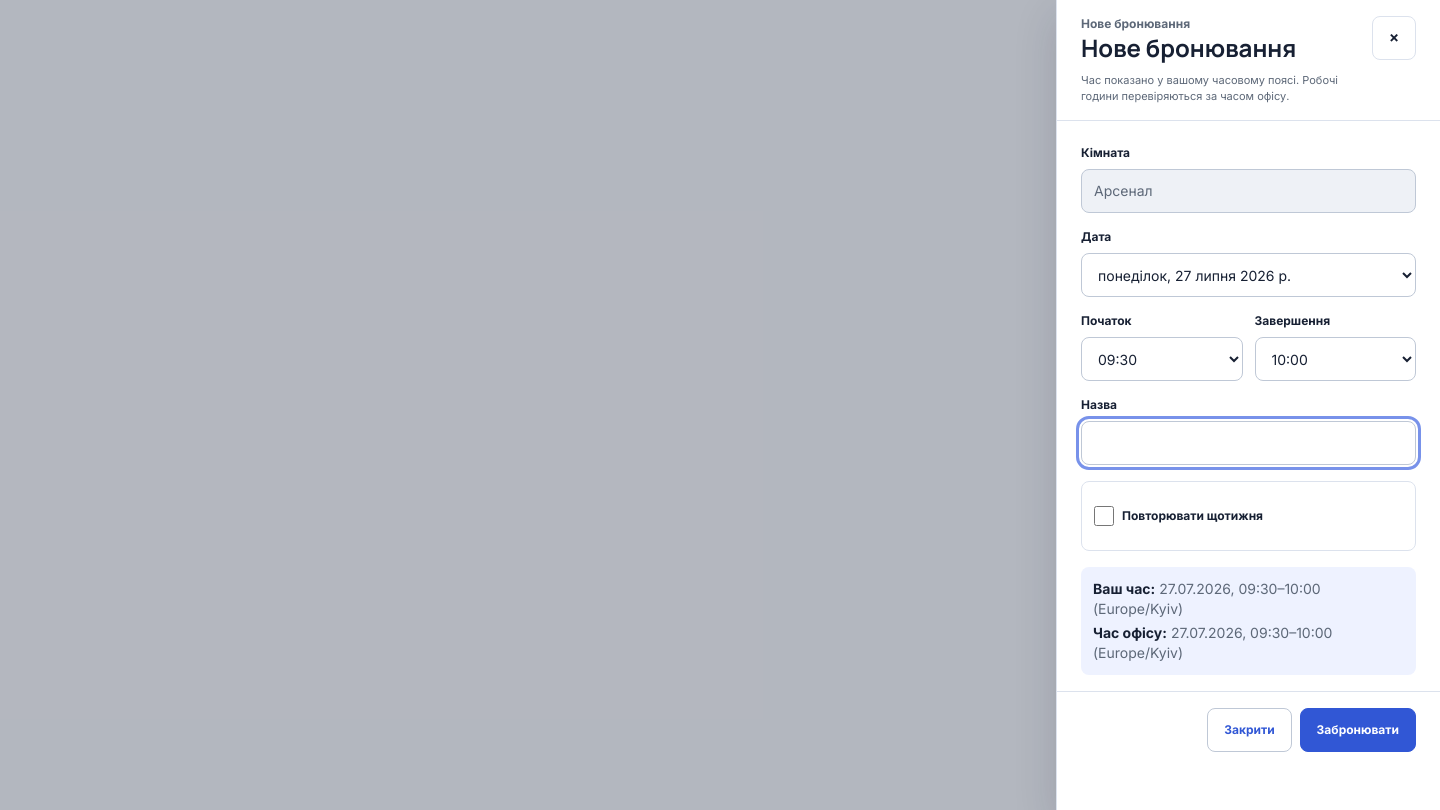
Scenario: BookingSheet › preserves the title, refreshes, and focuses the conflict message
This screenshot has width=1440, height=810.
In the field labelled "Назва": (1248, 443) [1081,421,1416,465], type "Важлива зустріч"
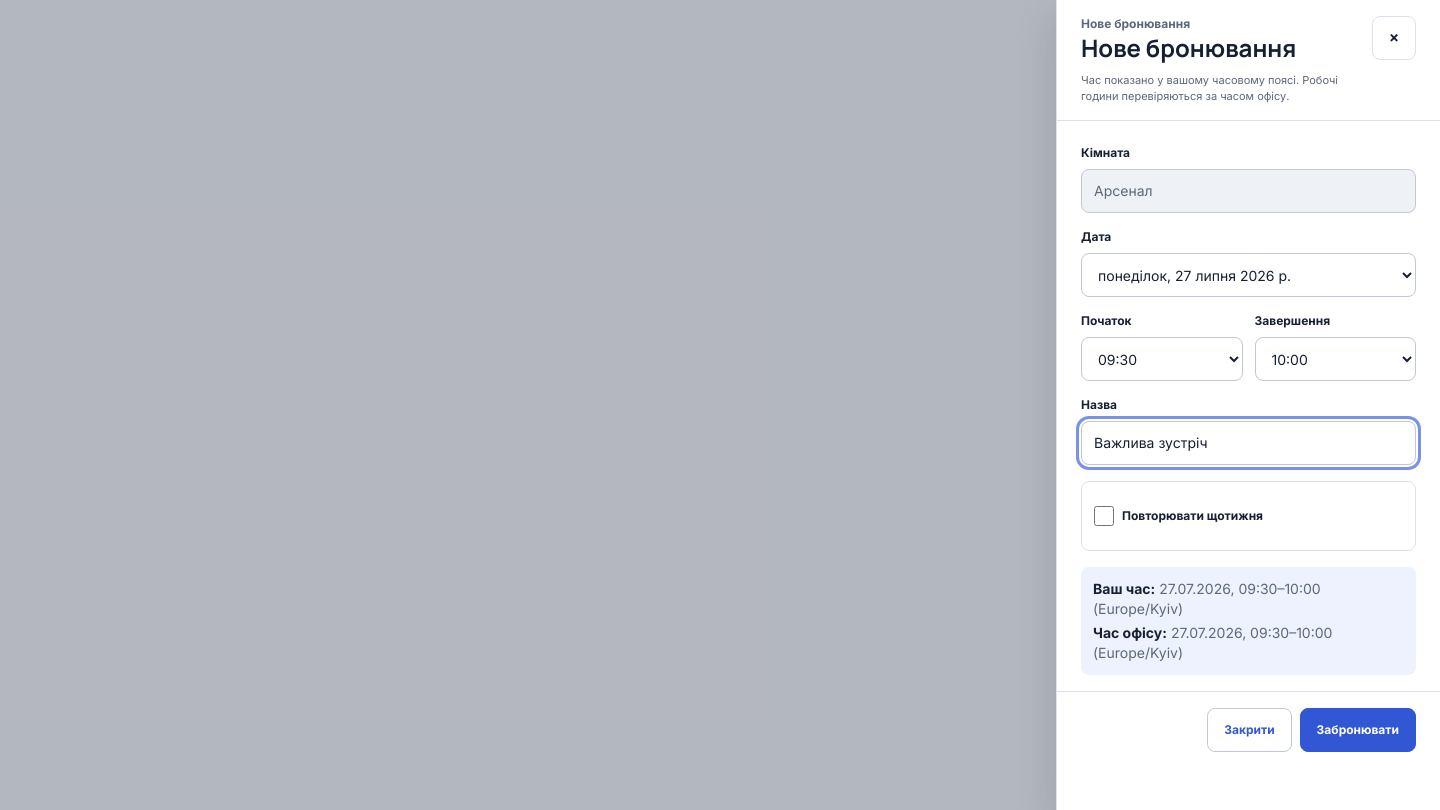
Select "10:30" in the dropdown labelled "Завершення": (1335, 359) [1254,337,1416,381]
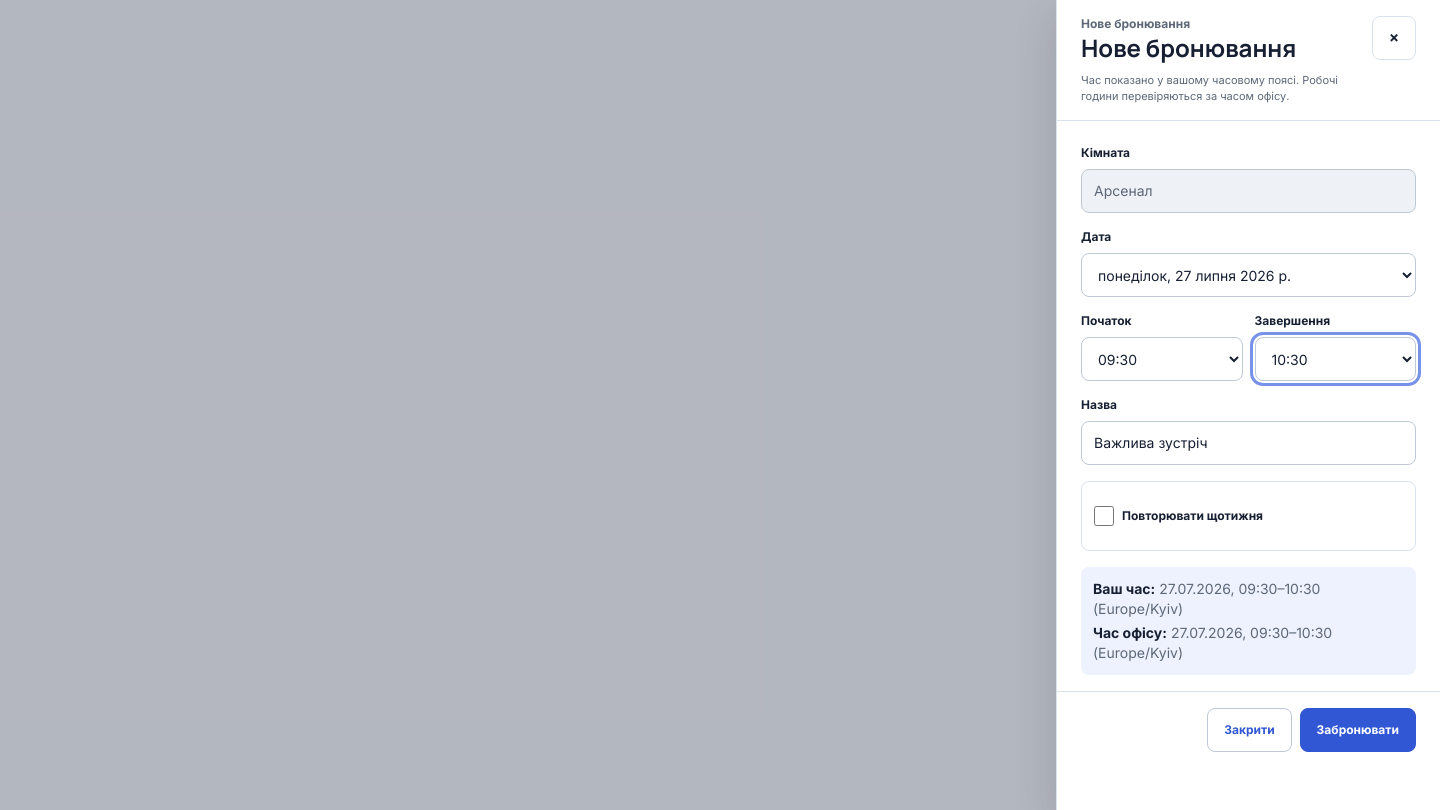
Click the button "Забронювати": (1358, 730) [1300,708,1416,752]
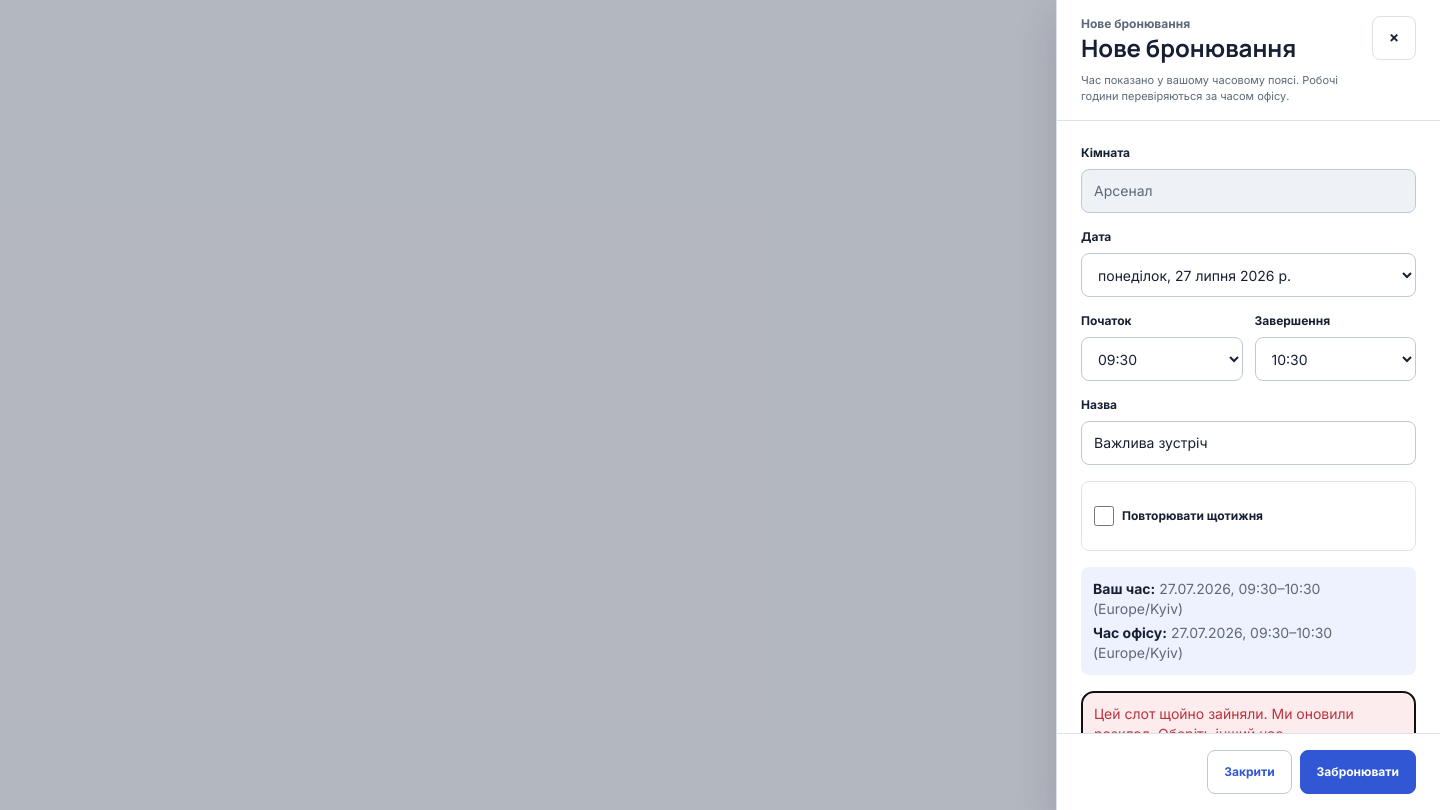
Check: the message reads "Цей слот щойно зайняли. Ми оновили розклад. Оберіть інший час.", box [1094,705,1354,742]
